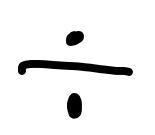div: (15, 29, 134, 119)
